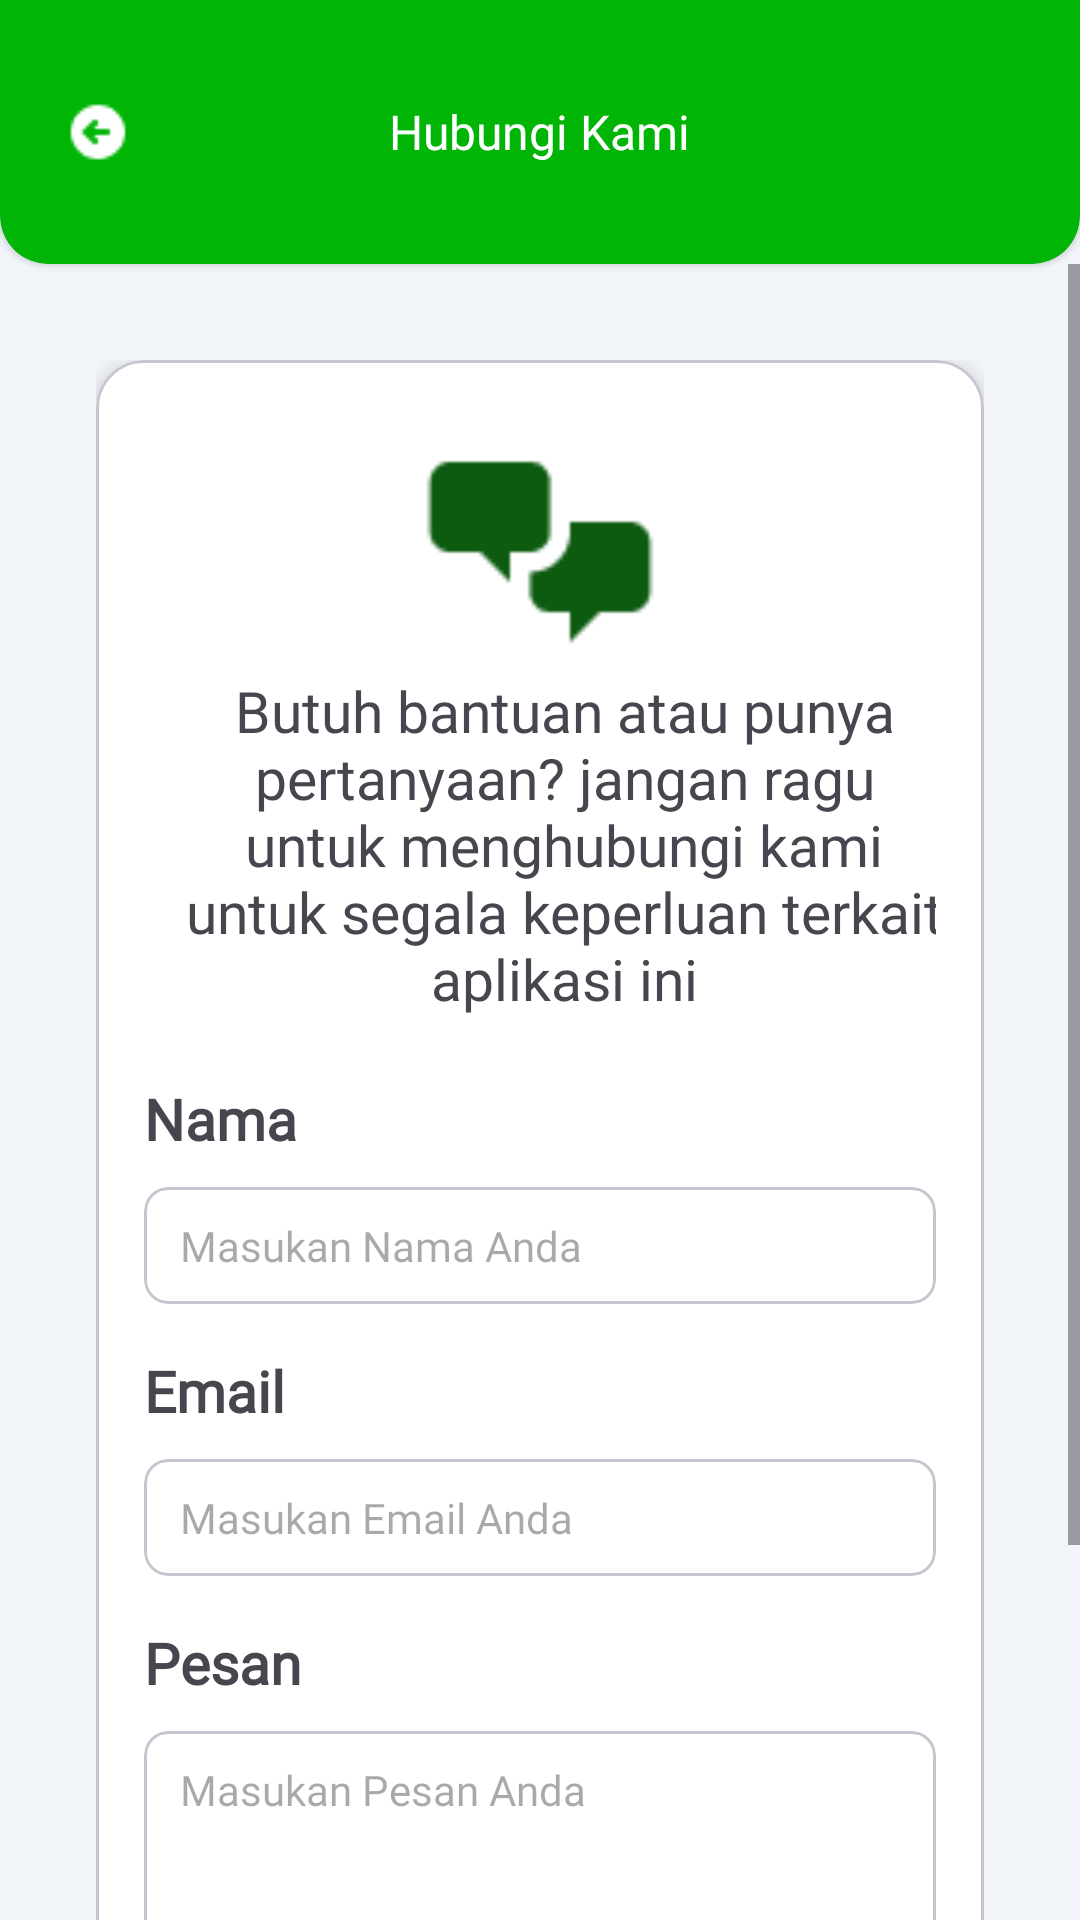

Locate icon controls on the screen. Image size 1080x1920, boxes as (x1, y1, x2, y2).
back: (70, 104, 126, 160)
contact us chat: (427, 460, 653, 643)
